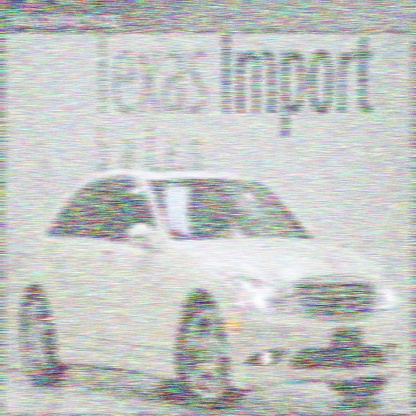Vehicle: (8, 166, 407, 412)
